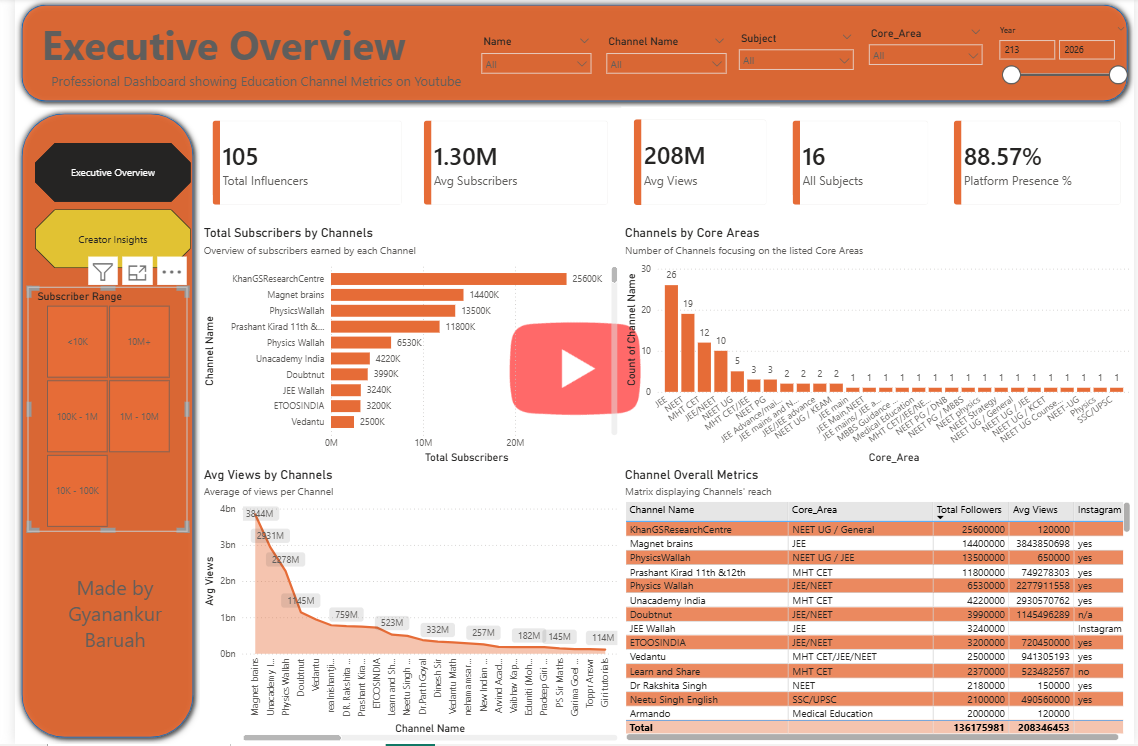

The page's visual inventory and layout, read from the dashboard file:
{"tool":"powerbi","page":{"name":"Executive Overview","canvas":[1500,1000],"ordinal":0},"visuals":[{"type":"shape","box":[0,145.8,248,854.6],"z":0},{"type":"shape","box":[0,0,1500.3,147.4],"z":1000},{"type":"tableEx","title":"Channel Overall Metrics","fields":{"Values":["Sheet1.Channel Name","Sheet1.Core_Area","Measures (2).Total Followers","Measures (2).Avg Views","Sheet1.Instagram","Sheet1.Telegram","Sheet1.LinedIn","Sheet1.Channel Link","Measures (2).Influence Efficiency"]},"box":[812.7,616.6,687,383.7],"z":2000},{"type":"cardVisual","fields":{"Data":["Measures (2).Total Influencers"]},"box":[248,147.5,288.2,147.5],"z":3000},{"type":"cardVisual","fields":{"Data":["Measures (2).Avg Views"]},"box":[812.7,145.8,212.8,149.1],"z":4000},{"type":"cardVisual","fields":{"Data":["Avg(Sheet1.Follower/Subscriber_count)"]},"box":[531.2,147.5,281.5,147.5],"z":5000},{"type":"cardVisual","fields":{"Data":["Count(Sheet1.All Subjects)"]},"box":[1025.5,147.5,216.2,147.5],"z":6000},{"type":"cardVisual","fields":{"Data":["Measures (2).Platform Presence %"]},"box":[1241.6,147.5,258,147.5],"z":7000},{"type":"clusteredBarChart","title":"Total Subscribers by Channels","fields":{"Category":["Sheet1.Channel Name"],"Y":["Sum(Sheet1.Follower/Subscriber_count)"]},"box":[248,305,564.7,323.4],"z":8000},{"type":"pageNavigator","box":[26.8,194.4,209.5,169.2],"z":9000},{"type":"actionButton","box":[31.8,21.8,583.1,68.7],"z":10000},{"type":"slicer","fields":{"Values":["Sheet1.Channel_Start_Date.Variation.Date Hierarchy.Year"]},"box":[1307.2,31,192.8,88.2],"z":11000},{"type":"slicer","fields":{"Values":["Sheet1.Core_Area"]},"box":[1134.4,33.5,172.6,72.1],"z":12000},{"type":"slicer","fields":{"Values":["Sheet1.Subject"]},"box":[960.1,40.2,174.3,58.6],"z":13000},{"type":"slicer","fields":{"Values":["Sheet1.Channel Name"]},"box":[782.5,45.2,181,60.3],"z":14000},{"type":"slicer","fields":{"Values":["Sheet1.Name"]},"box":[614.9,45.2,167.6,68.7],"z":15000},{"type":"columnChart","title":"Channels by Core Areas","fields":{"Category":["Sheet1.Core_Area"],"Y":["Count(Sheet1.Channel Name)"]},"box":[812.7,305,687,323.4],"z":16000},{"type":"areaChart","title":"Avg Views by Channels","fields":{"Category":["Sheet1.Channel Name"],"Y":["Measures (2).Avg Views"]},"box":[248,628.4,564.7,372],"z":17000},{"type":"actionButton","box":[31.8,90.5,583.1,41.9],"z":18000},{"type":"actionButton","box":[31.8,732.2,204.4,184.3],"z":19000},{"type":"slicer","fields":{"Values":["Sheet1.Subscriber Range"]},"box":[16.8,387.1,214.5,328.4],"z":20000}]}

Visuals, with their boxes in screenshot pixels (x1, y1, x2, y2), scaled from the page's 1500x1000 canvas onto the 1138x746 screenshot:
shape: box(0, 109, 188, 745)
shape: box(0, 0, 1137, 110)
"Channel Overall Metrics" tableEx: box(617, 460, 1137, 745)
cardVisual - Measures (2).Total Influencers: box(188, 110, 407, 220)
cardVisual - Measures (2).Avg Views: box(617, 109, 778, 220)
cardVisual - Avg(Sheet1.Follower/Subscriber_count): box(403, 110, 617, 220)
cardVisual - Count(Sheet1.All Subjects): box(778, 110, 942, 220)
cardVisual - Measures (2).Platform Presence %: box(942, 110, 1137, 220)
"Total Subscribers by Channels" clusteredBarChart: box(188, 228, 617, 469)
pageNavigator: box(20, 145, 179, 271)
actionButton: box(24, 16, 467, 68)
slicer - Sheet1.Channel_Start_Date.Variation.Date Hierarchy.Year: box(992, 23, 1137, 89)
slicer - Sheet1.Core_Area: box(861, 25, 992, 79)
slicer - Sheet1.Subject: box(728, 30, 861, 74)
slicer - Sheet1.Channel Name: box(594, 34, 731, 79)
slicer - Sheet1.Name: box(467, 34, 594, 85)
"Channels by Core Areas" columnChart: box(617, 228, 1137, 469)
"Avg Views by Channels" areaChart: box(188, 469, 617, 745)
actionButton: box(24, 68, 467, 99)
actionButton: box(24, 546, 179, 684)
slicer - Sheet1.Subscriber Range: box(13, 289, 175, 534)
